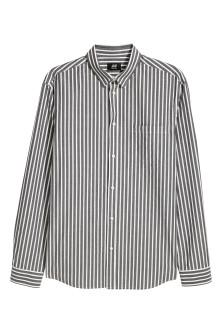teeshirt: (8, 44, 213, 295)
